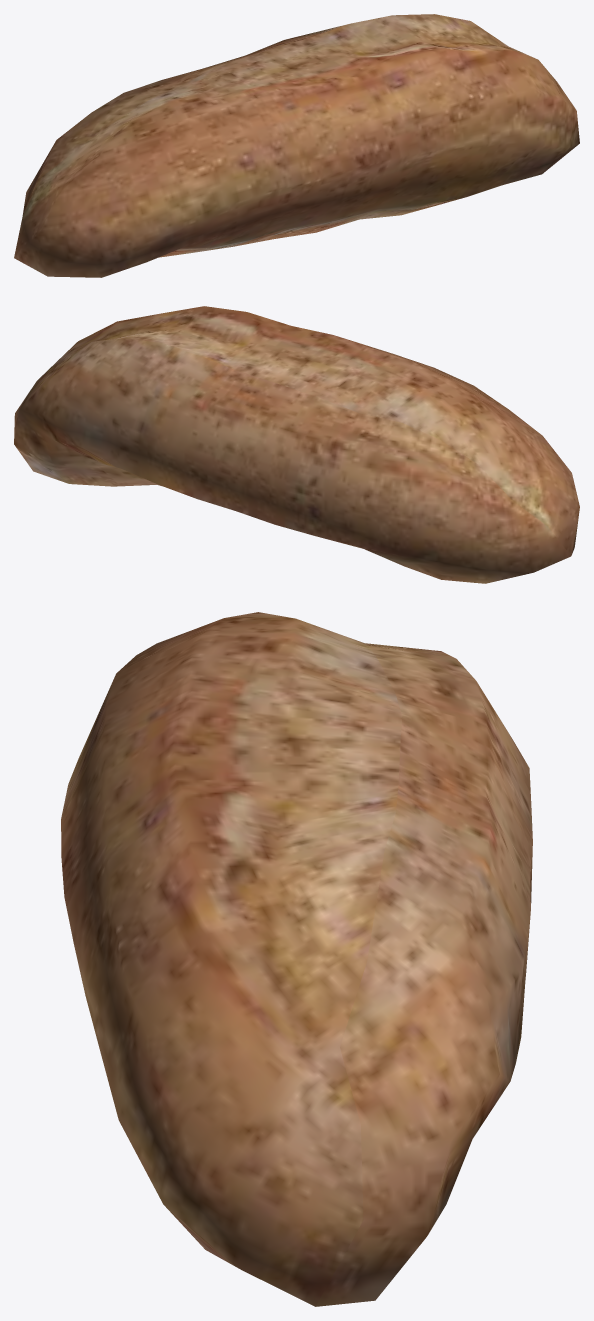
The model's file is obj_cereal_bread.glb.
The picture shows the model from 3 angles, top to bottom: view 1: azimuth 30°, elevation 25°; view 2: azimuth 150°, elevation 25°; view 3: azimuth 270°, elevation 25°; orthographic projection. The views are drawn at different scales.
Visible parts, largest first — view 1: Object_2; view 2: Object_2; view 3: Object_2.
Part boxes in pixels (bbox=[...]): Object_2: bbox=[14, 14, 579, 277]; Object_2: bbox=[14, 306, 579, 583]; Object_2: bbox=[61, 612, 532, 1306].
Bounding box in the file's own units: 0.3 × 0.0908 × 0.1119.
1 material, 1 textured.
